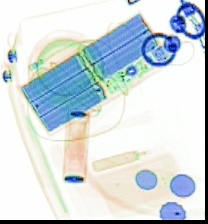powerbank: (17, 12, 170, 132)
